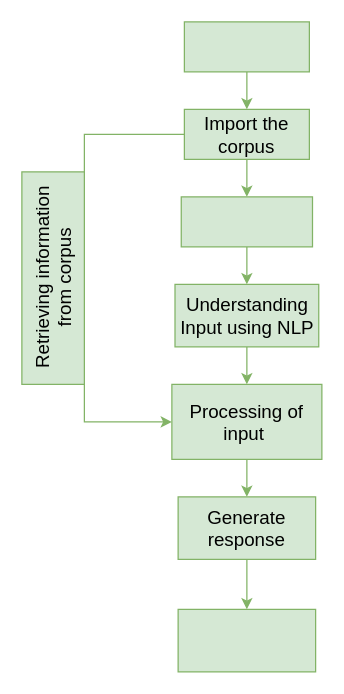
This 344x694 diagram has some shape labels left out. The shapes that lost their labels are listed below. From the top down, each one's box as (x1, y1, x2, y2) in pixels, then its label:
(183, 21, 309, 72): Start
(180, 196, 312, 247): Query Input
(177, 608, 316, 672): End
